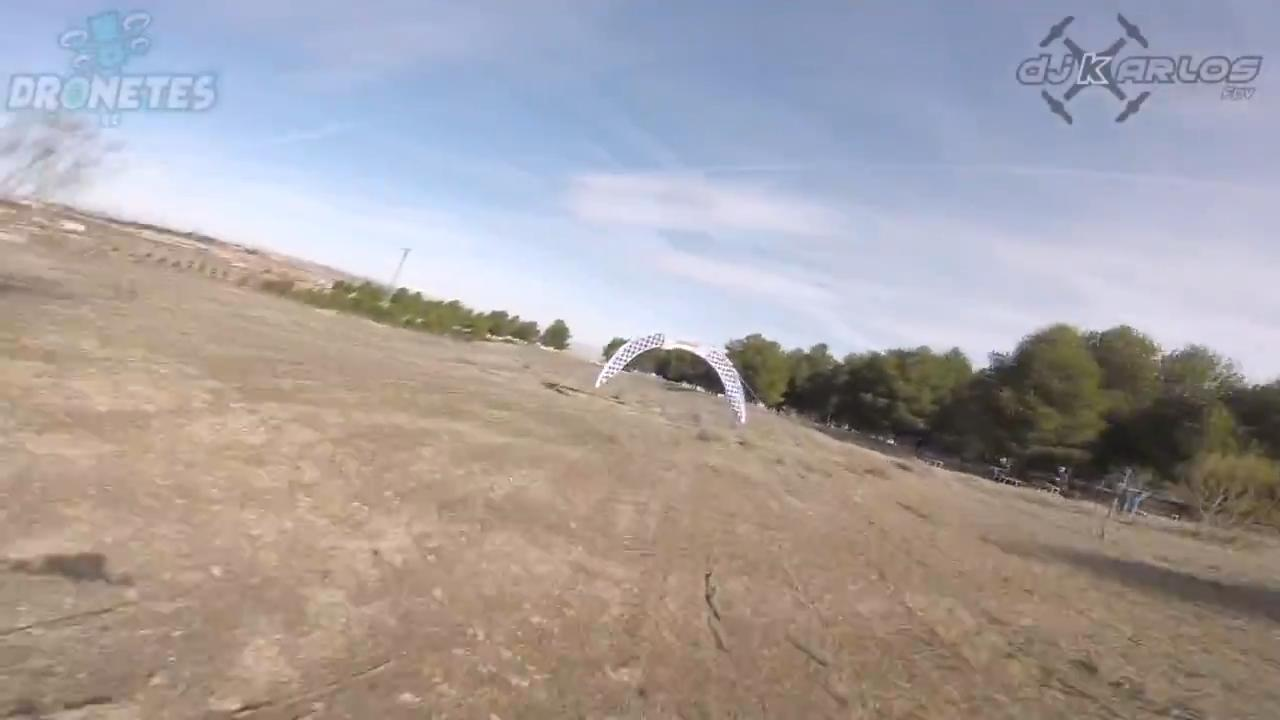gate: (597, 330, 748, 427)
